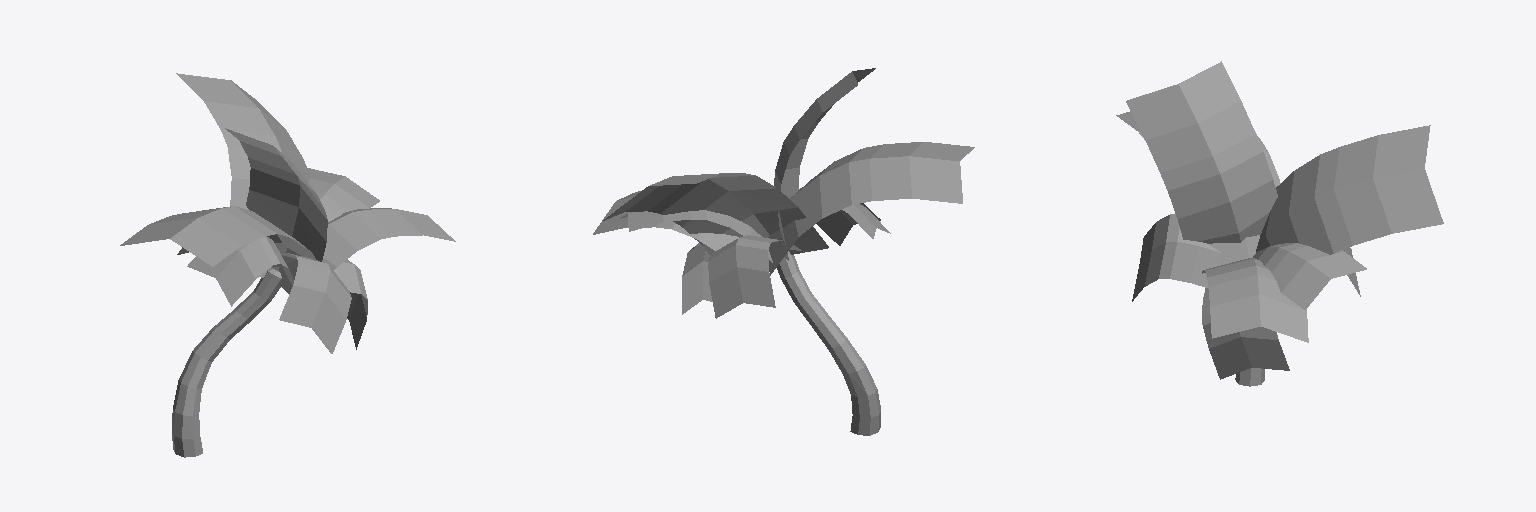
File: PalmTree_2.obj
3 views of the same model, side by side, from view 1: azimuth 30°, elevation 25°; view 2: azimuth 150°, elevation 25°; view 3: azimuth 270°, elevation 25° (orthographic).
Visible parts, largest first — view 1: PalmTree_2_Cube.007; view 2: PalmTree_2_Cube.007; view 3: PalmTree_2_Cube.007.
Boxes of the visible parts, <box> form: PalmTree_2_Cube.007: <box>120,73,455,457</box>; PalmTree_2_Cube.007: <box>593,68,974,435</box>; PalmTree_2_Cube.007: <box>1116,61,1443,386</box>.
Size of the model in its own units: 5.58 by 5.28 by 4.77.